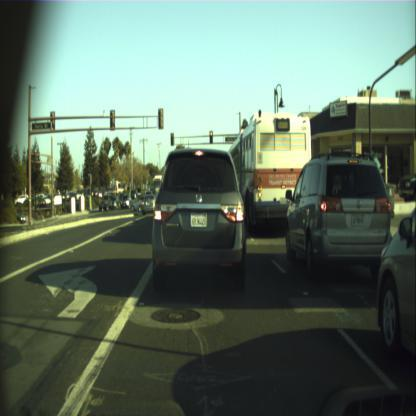Red: (209, 130, 212, 144)
RedLeft: (170, 132, 174, 145)
